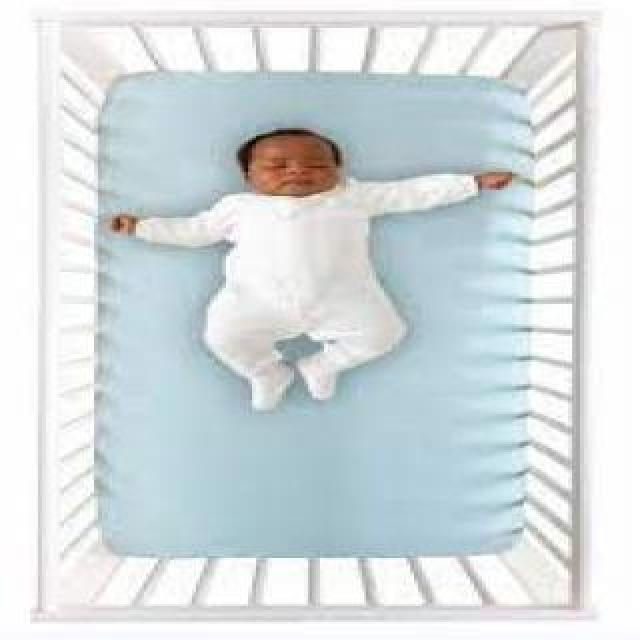baby: (107, 123, 515, 413)
